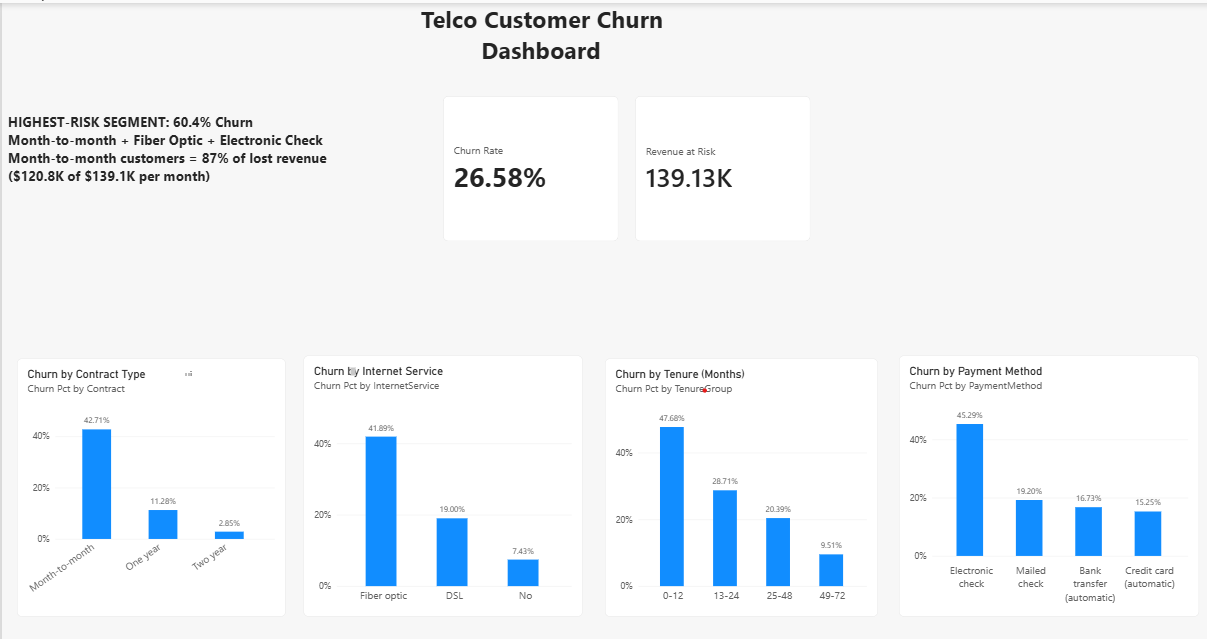

This screenshot's page, from the dashboard's own definition file:
{"tool":"powerbi","page":{"name":"Page 1","canvas":[1920,1080],"ordinal":0},"visuals":[{"type":"cardVisual","fields":{"Data":["churn_clean.Churn Rate"]},"box":[0,87.5,280,280],"z":0},{"type":"cardVisual","fields":{"Data":["churn_clean.Revenue at Risk"]},"box":[297.5,87.5,280,280],"z":1},{"type":"clusteredColumnChart","title":"Churn by Contract Type","fields":{"Category":["churn_clean.Contract"],"Y":["churn_clean.Churn Pct"]},"box":[0,378.8,280,280],"z":2},{"type":"clusteredColumnChart","title":"Churn by Internet Service","fields":{"Category":["churn_clean.InternetService"],"Y":["churn_clean.Churn Pct"]},"box":[297.5,378.8,280,280],"z":3},{"type":"clusteredColumnChart","title":"Churn by Tenure (Months)","fields":{"Category":["churn_clean.TenureGroup"],"Y":["churn_clean.Churn Pct"]},"box":[593.8,378.8,280,280],"z":4},{"type":"clusteredColumnChart","title":"Churn by Payment Method","fields":{"Category":["churn_clean.PaymentMethod"],"Y":["churn_clean.Churn Pct"]},"box":[0,658.8,280,280],"z":5},{"type":"textbox","box":[10,870,280,210],"z":7},{"type":"textbox","box":[290,580,271.2,12.5],"z":8},{"type":"textbox","box":[25,0,280,280],"z":9},{"type":"textbox","box":[10,15,575,105],"z":10}]}

Visuals, with their boxes on the page's 1920x1080 design canvas (x1, y1, x2, y2). These are canvas units, not pixel positions in the 1207x639 screenshot, which may show the page scaled, cropped or inside an application window:
cardVisual - churn_clean.Churn Rate: bbox=[0, 88, 280, 368]
cardVisual - churn_clean.Revenue at Risk: bbox=[298, 88, 578, 368]
"Churn by Contract Type" clusteredColumnChart: bbox=[0, 379, 280, 659]
"Churn by Internet Service" clusteredColumnChart: bbox=[298, 379, 578, 659]
"Churn by Tenure (Months)" clusteredColumnChart: bbox=[594, 379, 874, 659]
"Churn by Payment Method" clusteredColumnChart: bbox=[0, 659, 280, 939]
textbox: bbox=[10, 870, 290, 1080]
textbox: bbox=[290, 580, 561, 592]
textbox: bbox=[25, 0, 305, 280]
textbox: bbox=[10, 15, 585, 120]
